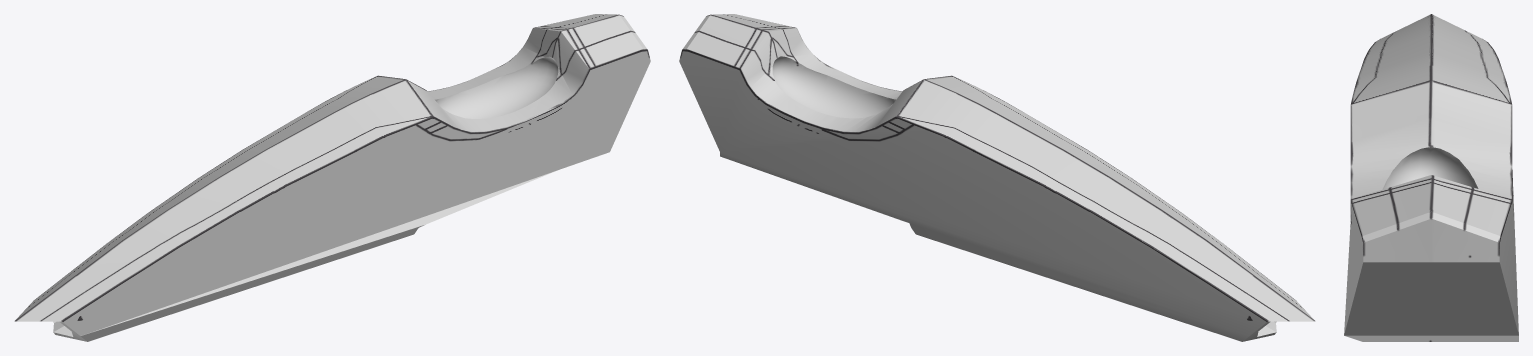
The picture shows the model from 3 angles, left to right: view 1: azimuth 30°, elevation 25°; view 2: azimuth 150°, elevation 25°; view 3: azimuth 270°, elevation 25°; orthographic projection. The views are drawn at different scales.
Parts seen in each view (by area): view 1: 立方体.005; view 2: 立方体.005; view 3: 立方体.005.
Boxes of the visible parts, <box> form: 立方体.005: <box>14,14,650,341</box>; 立方体.005: <box>679,14,1315,341</box>; 立方体.005: <box>1344,14,1518,341</box>.
Size of the model in its own units: 352 by 100 by 60.46.
